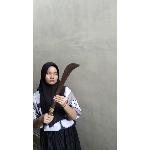Golok: (48, 62, 82, 114)
